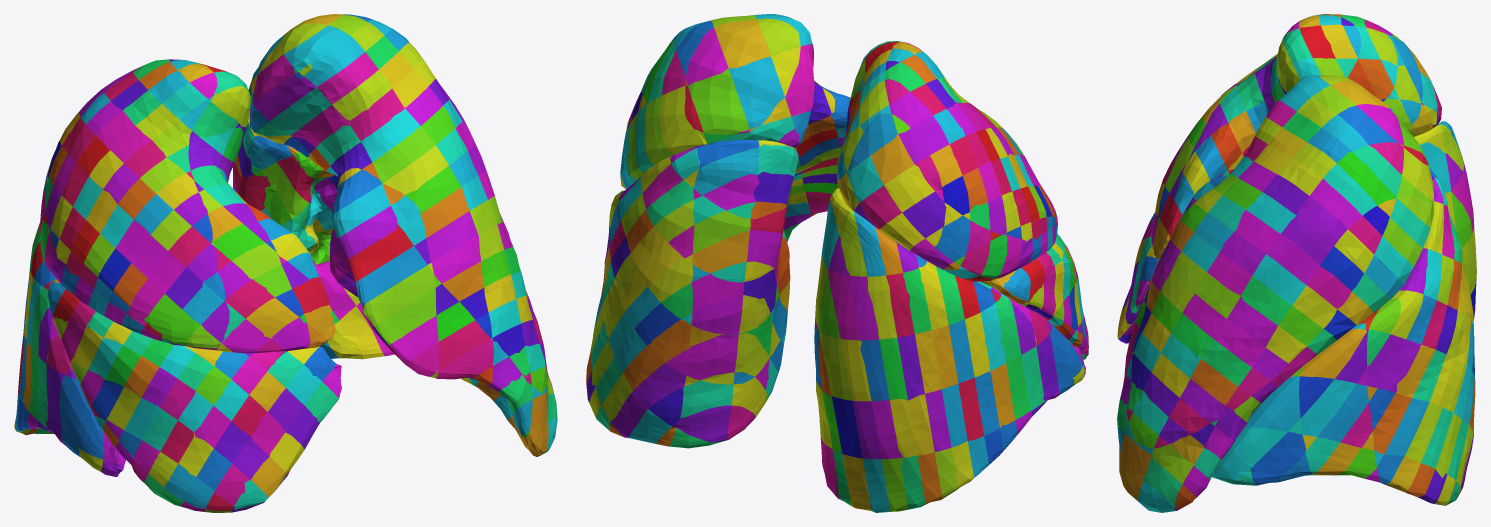
File: lung-male-medium.glb
3 renders of one model, left to right at view 1: azimuth 30°, elevation 25°; view 2: azimuth 150°, elevation 25°; view 3: azimuth 270°, elevation 25°, orthographic. The views are drawn at different scales.
Visible parts, largest first — view 1: LUL-13B1, LUL-12B1, LUL-14B1, LUL-11B1, LUL-8A2, LUL-10B1, LUL-9B1, RLL-2B4, LUL-9A2, LUL-7A2, LUL-4A2, LUL-5A2 (+133 smaller); view 2: LUL-1B4, LUL-1B3, LUL-1A3, LUL-2B5, LLL-3B4, LLL-9B1, LLL-4B3, LLL-6B2, LUL-2B2, LLL-1B5, LLL-7B2, LUL-1A4 (+112 smaller); view 3: LLL-14C6, LLL-13C7, LLL-14B5, LLL-13B6, LUL-10A5, LLL-12B6, LUL-9A5, LUL-11A5, LUL-8A5, LUL-12A5, LUL-4A5, LUL-13A5 (+145 smaller).
Boxes of the visible parts, x1,y1,x2,y2 form: LUL-13B1: (362, 265, 435, 326); LUL-12B1: (355, 246, 427, 305); LUL-14B1: (374, 288, 436, 344); LUL-11B1: (348, 224, 413, 281); LUL-8A2: (372, 126, 435, 182); LUL-10B1: (337, 206, 397, 259); LUL-9B1: (331, 184, 390, 238); RLL-2B4: (59, 375, 92, 446); LUL-9A2: (383, 145, 448, 195); LUL-7A2: (361, 108, 420, 161); LUL-4A2: (317, 52, 378, 104); LUL-5A2: (332, 70, 392, 120); LUL-1B4: (688, 68, 749, 134); LUL-1B3: (728, 56, 784, 128); LUL-1A3: (714, 19, 770, 68); LUL-2B5: (659, 86, 707, 154); LLL-3B4: (686, 333, 738, 380); LLL-9B1: (694, 147, 759, 194); LLL-4B3: (691, 295, 743, 334); LLL-6B2: (692, 230, 749, 273); LUL-2B2: (785, 44, 814, 116); LLL-1B5: (676, 405, 731, 442); LLL-7B2: (692, 210, 750, 253); LUL-1A4: (685, 28, 728, 85); LLL-14C6: (1245, 376, 1300, 431); LLL-13C7: (1250, 432, 1306, 485); LLL-14B5: (1300, 328, 1366, 378); LLL-13B6: (1301, 379, 1356, 436); LUL-10A5: (1253, 254, 1306, 305); LLL-12B6: (1317, 384, 1368, 442); LUL-9A5: (1266, 234, 1319, 284); LUL-11A5: (1241, 275, 1292, 325); LUL-8A5: (1281, 216, 1333, 265); LUL-12A5: (1227, 296, 1277, 347); LUL-4A5: (1337, 152, 1396, 205); LUL-13A5: (1214, 319, 1265, 367).
Size of the model in its own units: 0.2596 by 0.2279 by 0.1896.
